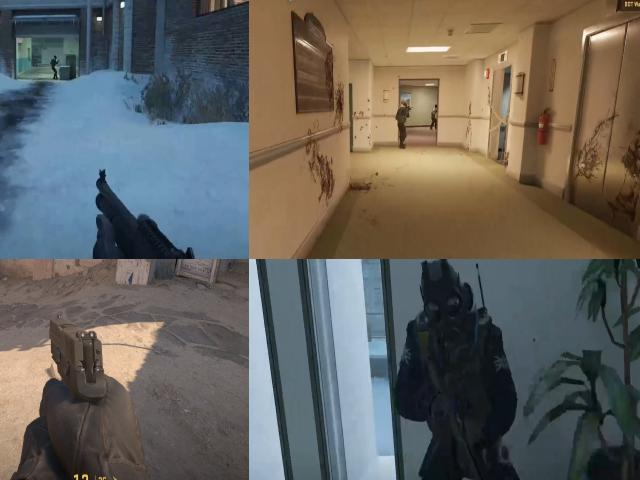CT: (409, 259, 519, 480), (394, 99, 411, 152), (51, 54, 59, 74)
CT-Head: (417, 259, 476, 346), (53, 55, 58, 60)
T: (431, 104, 438, 128)
